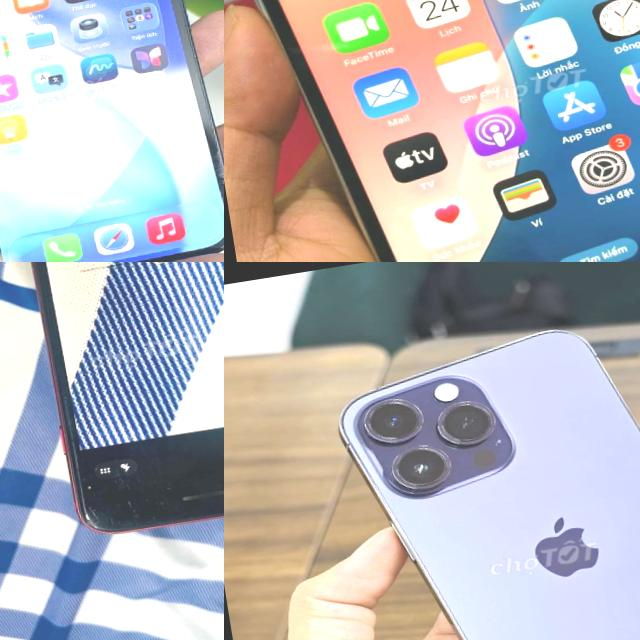gen_12_13: (224, 0, 640, 262), (0, 0, 224, 262)
gen_14: (326, 294, 640, 640)
gen_7_8: (0, 262, 224, 549)
scratch: (115, 458, 224, 530), (72, 475, 114, 533)
